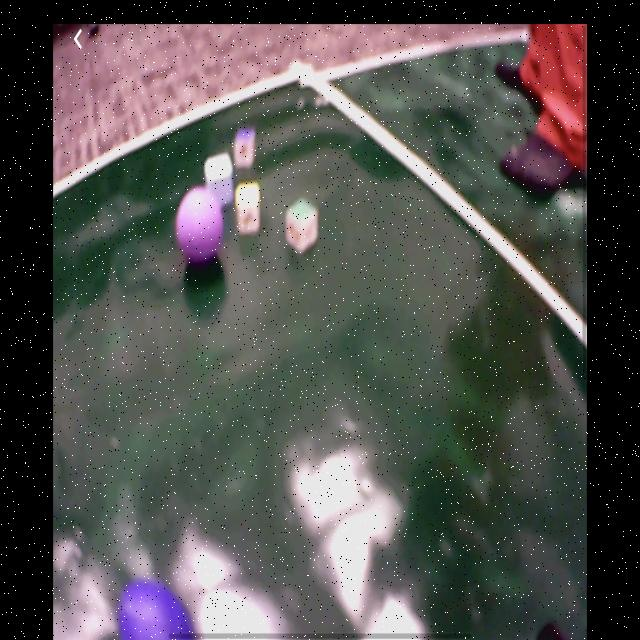ball: (120, 575, 194, 640), (177, 188, 223, 263)
